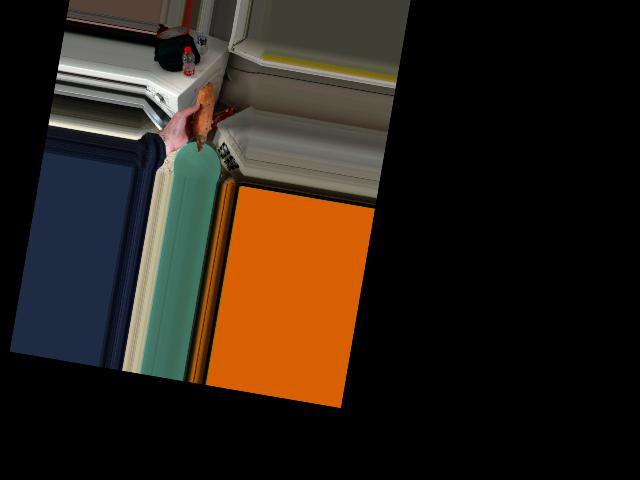sweet_potato: (190, 82, 216, 145)
